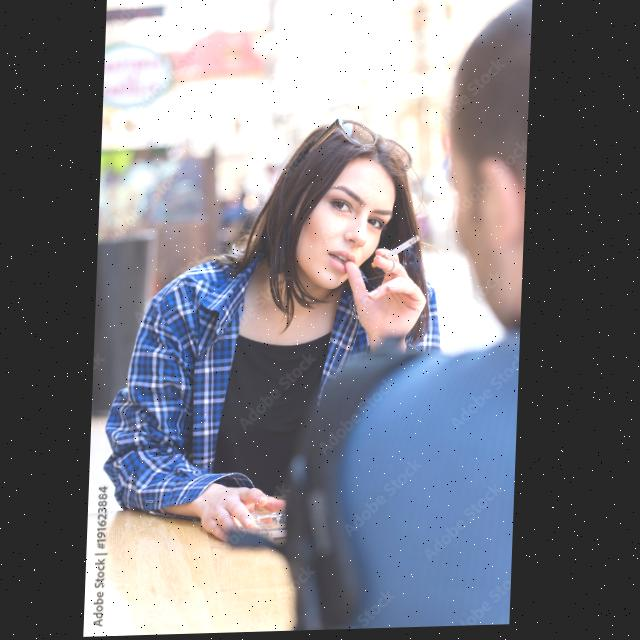cigarette: (374, 237, 423, 270)
